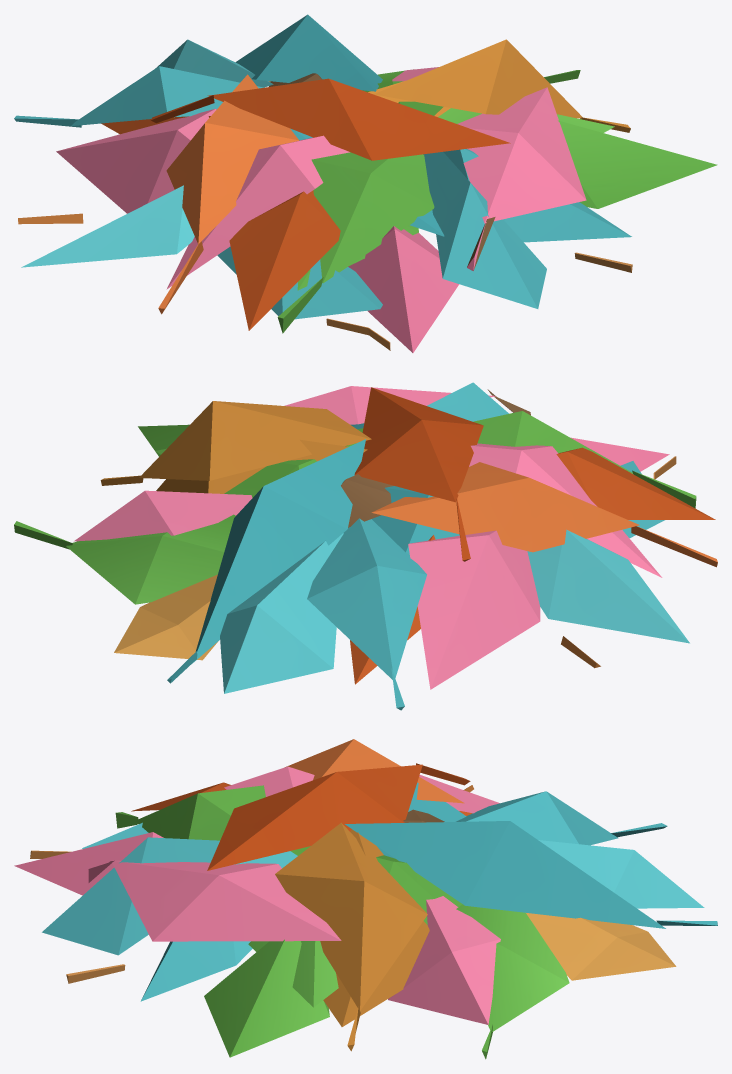
The model's file is pile_of_leaves_02.fbx.
3 renders of one model, top to bottom at view 1: azimuth 30°, elevation 25°; view 2: azimuth 150°, elevation 25°; view 3: azimuth 270°, elevation 25°, orthographic. The views are drawn at different scales.
Visible parts, largest first — view 1: pile_of_leaves_02; view 2: pile_of_leaves_02; view 3: pile_of_leaves_02.
Boxes of the visible parts, x1,y1,x2,y2 form: pile_of_leaves_02: (14,14,717,352); pile_of_leaves_02: (14,382,717,710); pile_of_leaves_02: (14,739,717,1059).
Bounding box in the file's own units: 2.3 × 0.52 × 2.3.
